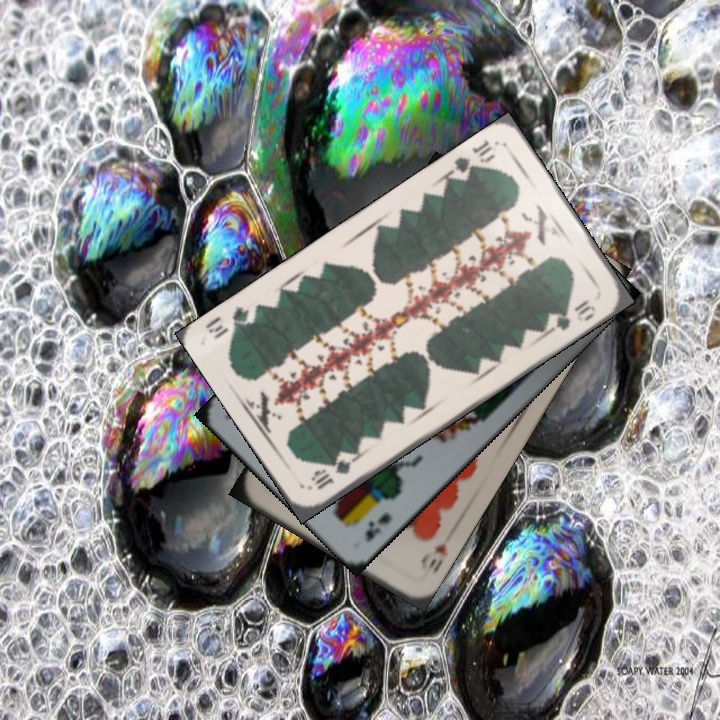EK: (361, 508, 395, 545)
G10: (307, 448, 360, 493), (446, 135, 498, 180)
H10: (416, 528, 456, 574)
